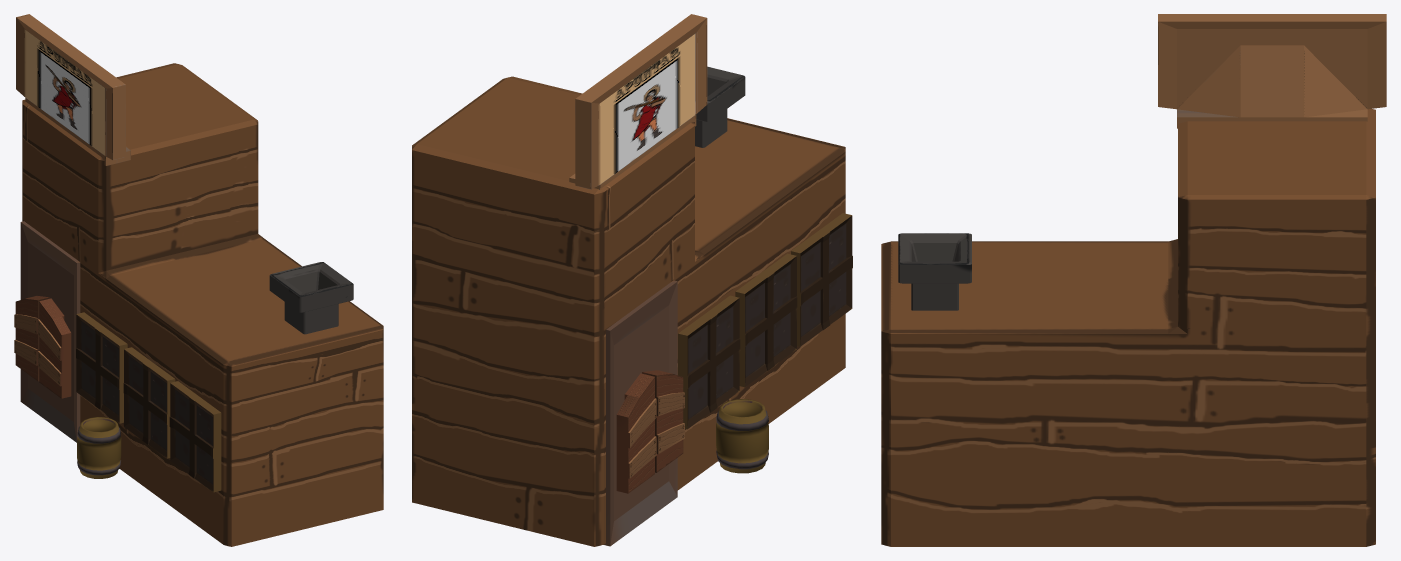
Rendered from rivia building with poster.obj.
The picture shows the model from 3 angles, left to right: view 1: azimuth 30°, elevation 25°; view 2: azimuth 150°, elevation 25°; view 3: azimuth 270°, elevation 25°; orthographic projection. The views are drawn at different scales.
Parts seen in each view (by area): view 1: Cube.009_Cube.006; view 2: Cube.009_Cube.006; view 3: Cube.009_Cube.006.
Boxes of the visible parts, x1,y1,x2,y2 form: Cube.009_Cube.006: (14,14,383,546); Cube.009_Cube.006: (412,14,852,546); Cube.009_Cube.006: (881,14,1386,546).
Bounding box in the file's own units: 10.3 × 18.63 × 19.2.
7 materials, 7 textured.
